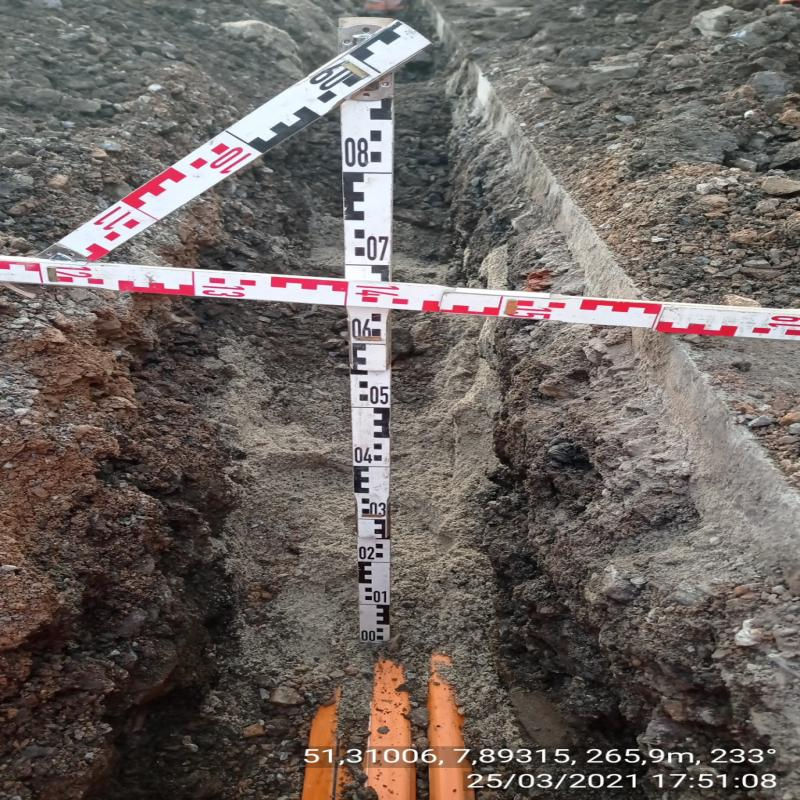Orang-Speednetrohrchen: (300, 650, 476, 800)
